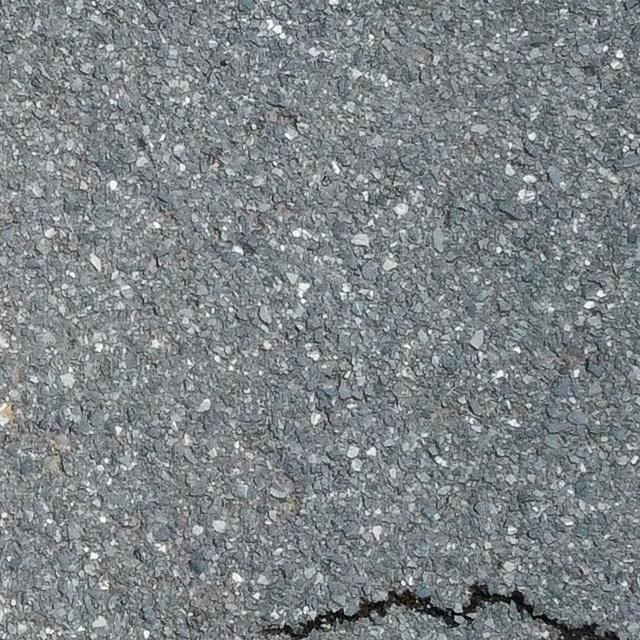TransverseCrack: (257, 579, 621, 640)
